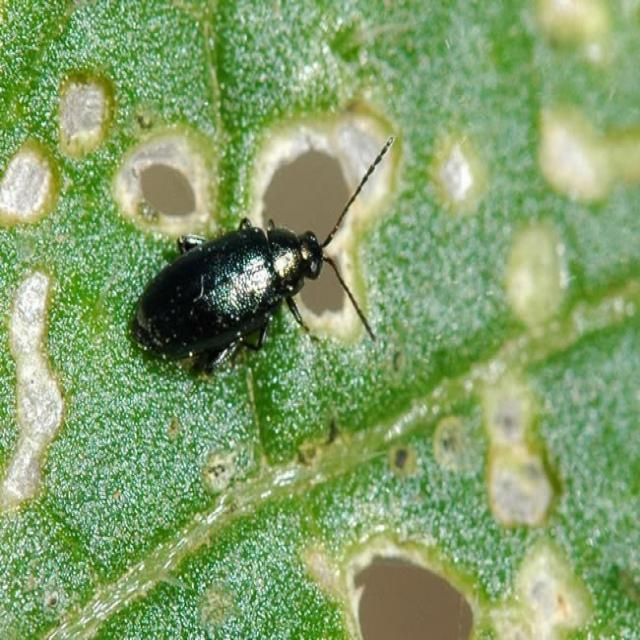flea_beetle: (122, 129, 403, 380)
